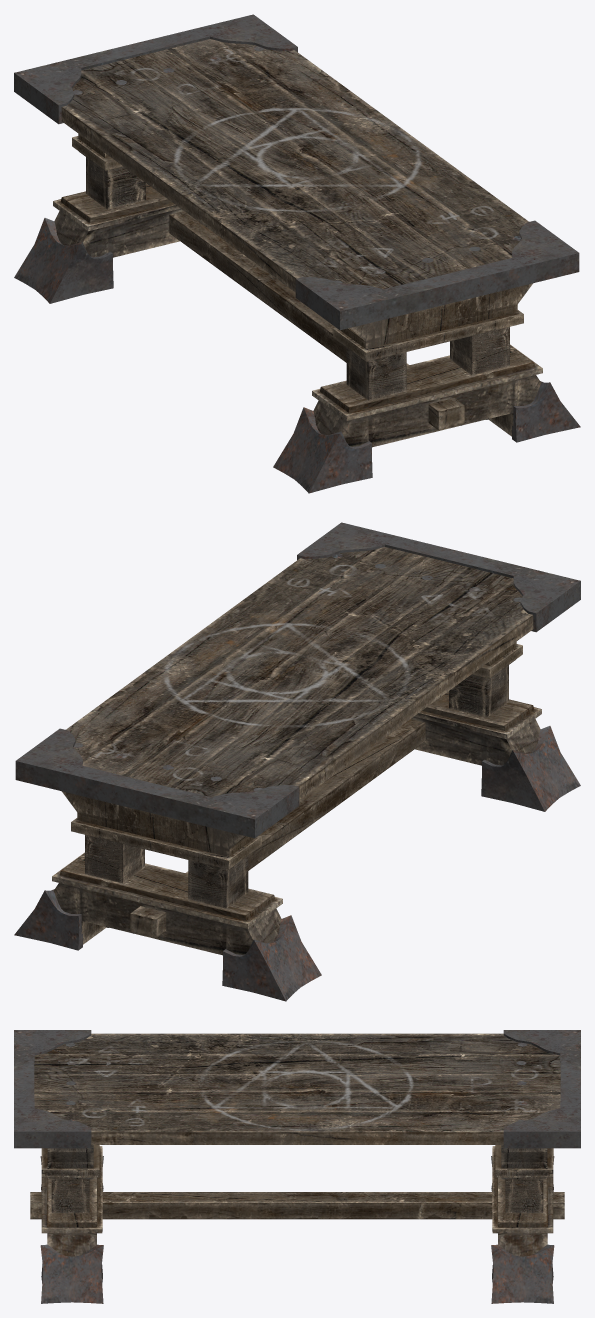
File: alchemy_table_-_game_model.glb
The picture shows the model from 3 angles, top to bottom: view 1: azimuth 30°, elevation 25°; view 2: azimuth 150°, elevation 25°; view 3: azimuth 270°, elevation 25°; orthographic projection. The views are drawn at different scales.
Parts seen in each view (by area): view 1: Object_2; view 2: Object_2; view 3: Object_2.
Boxes of the visible parts, x1,y1,x2,y2 form: Object_2: [14, 14, 580, 493]; Object_2: [14, 522, 580, 1001]; Object_2: [14, 1030, 580, 1303].
Size of the model in its own units: 77.76 by 51.83 by 161.
1 material, 1 textured.
